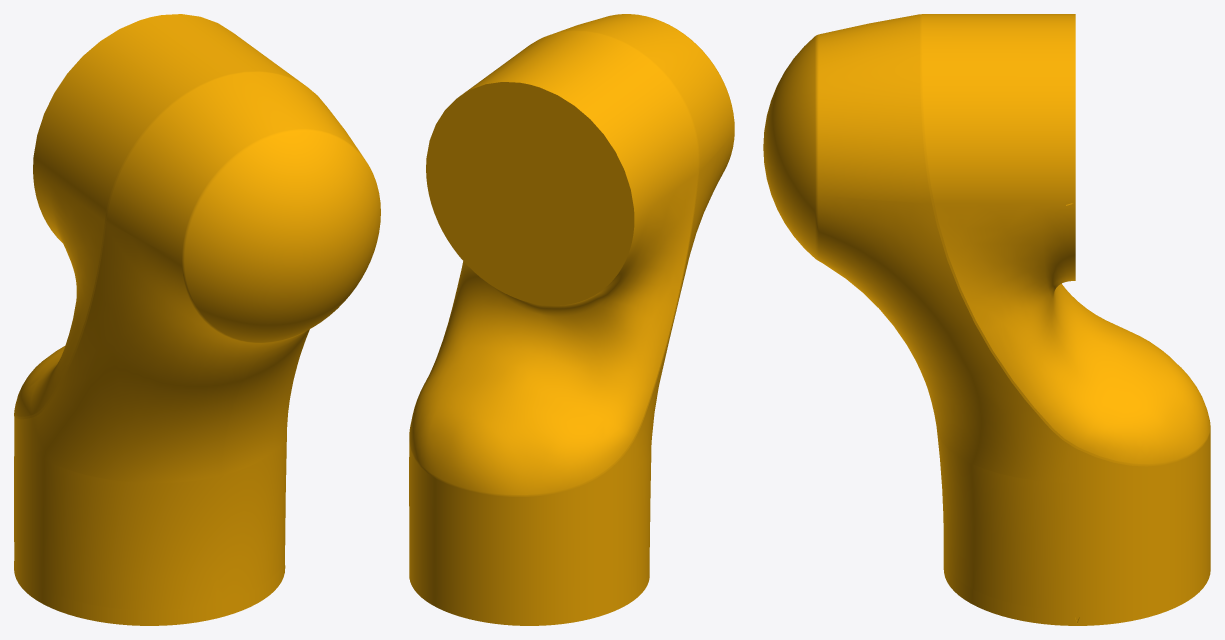
3 renders of one model, left to right at view 1: azimuth 30°, elevation 25°; view 2: azimuth 150°, elevation 25°; view 3: azimuth 270°, elevation 25°, orthographic. The views are drawn at different scales.
Visible parts, largest first — view 1: 01_SHOULDER; view 2: 01_SHOULDER; view 3: 01_SHOULDER.
Part boxes in pixels (x1,y1,x2,y2): 01_SHOULDER: (14, 14, 380, 625); 01_SHOULDER: (409, 14, 734, 625); 01_SHOULDER: (763, 14, 1210, 625).
Size of the model in its own units: 0.11 by 0.1844 by 0.247.
